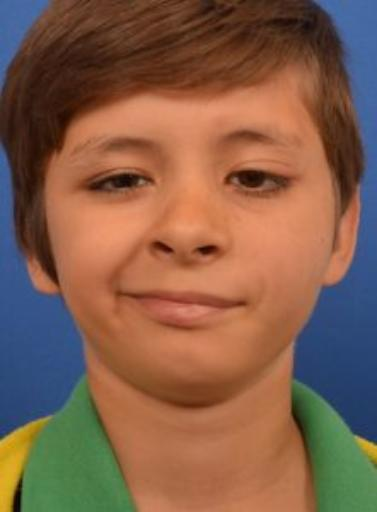left_eye: (224, 168, 290, 198)
left_lip_corner: (232, 294, 250, 310)
right_eye: (86, 170, 154, 195)
right_lip_corner: (112, 284, 129, 304)
